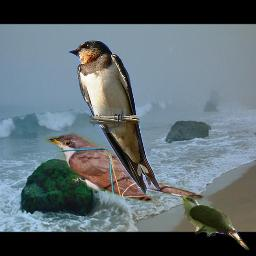Cuckoo: (44, 130, 207, 209), (178, 195, 250, 250)
Swallow: (67, 39, 160, 194)
